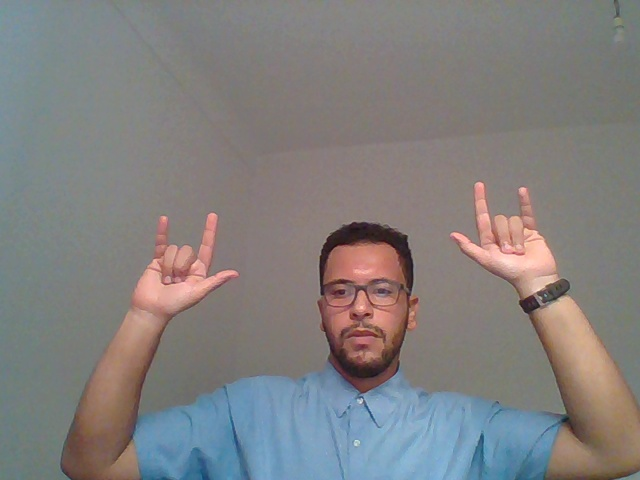iloveyou: (103, 167, 267, 425), (439, 149, 586, 389)
